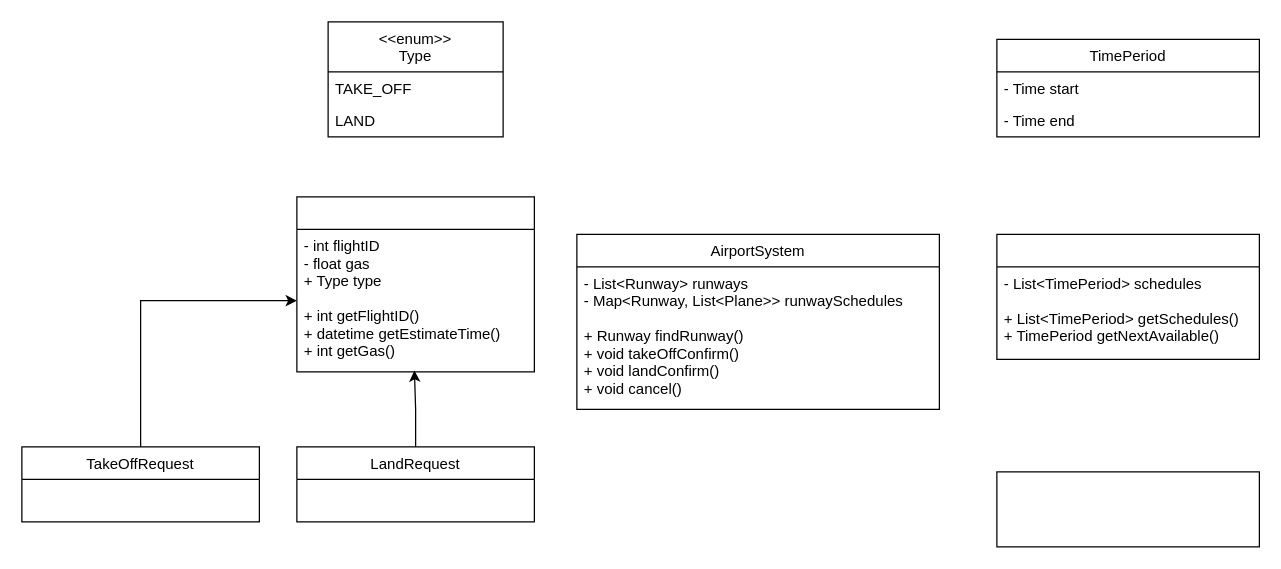
Some shapes in this 1281 by 569 pixel diagram are drawn without their labels. The box of each missing label's shape, as (x1, y1, x2, y2) in pixels:
NoAvailableRunwayException: (996, 471, 1259, 547)
Request: (296, 196, 534, 372)
Runway: (996, 233, 1259, 359)
